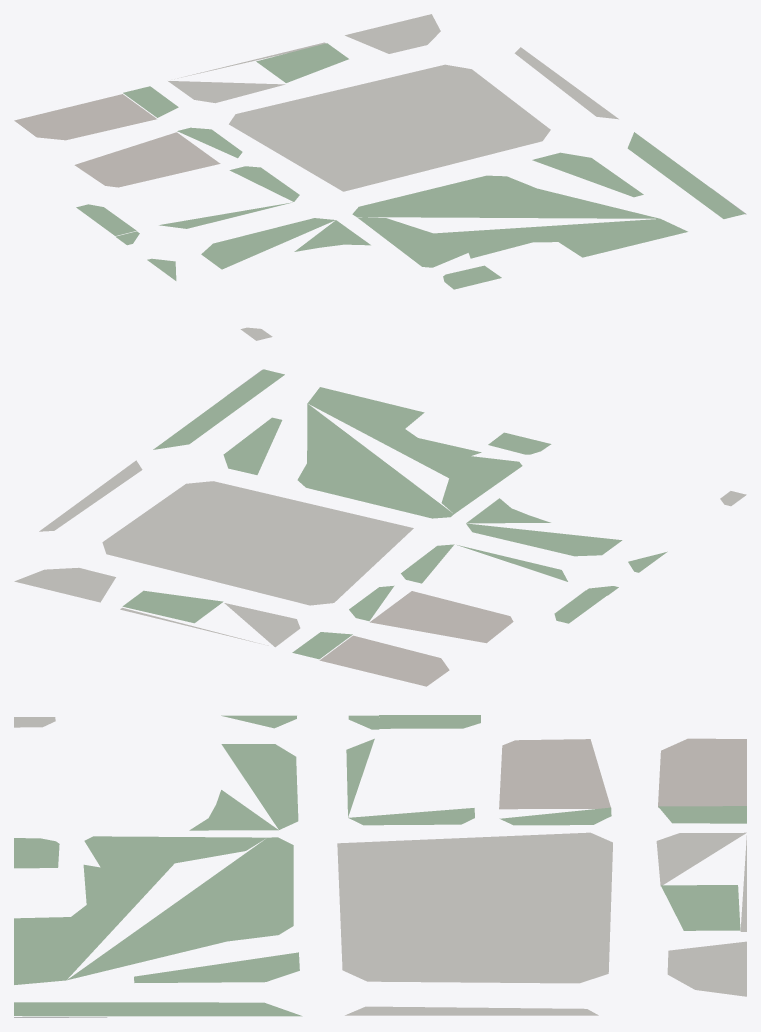
File: 125_70_mid.glb
3 renders of one model, top to bottom at view 1: azimuth 30°, elevation 25°; view 2: azimuth 150°, elevation 25°; view 3: azimuth 270°, elevation 25°, orthographic. The views are drawn at different scales.
Size of the model in its own units: 500 by 8.32 by 500.
